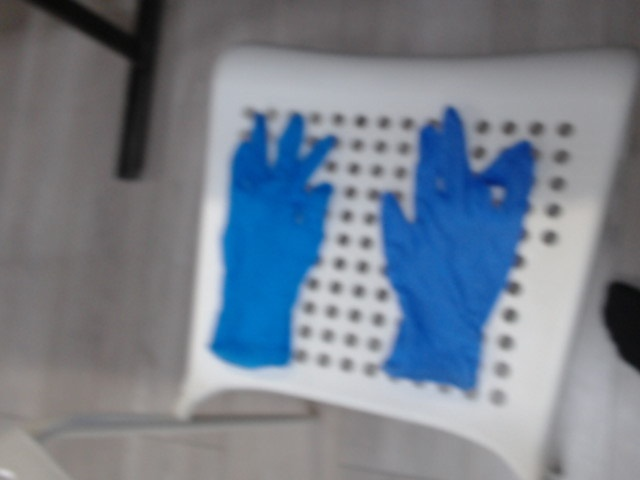medical_glove: (384, 109, 533, 389), (211, 115, 338, 363)
